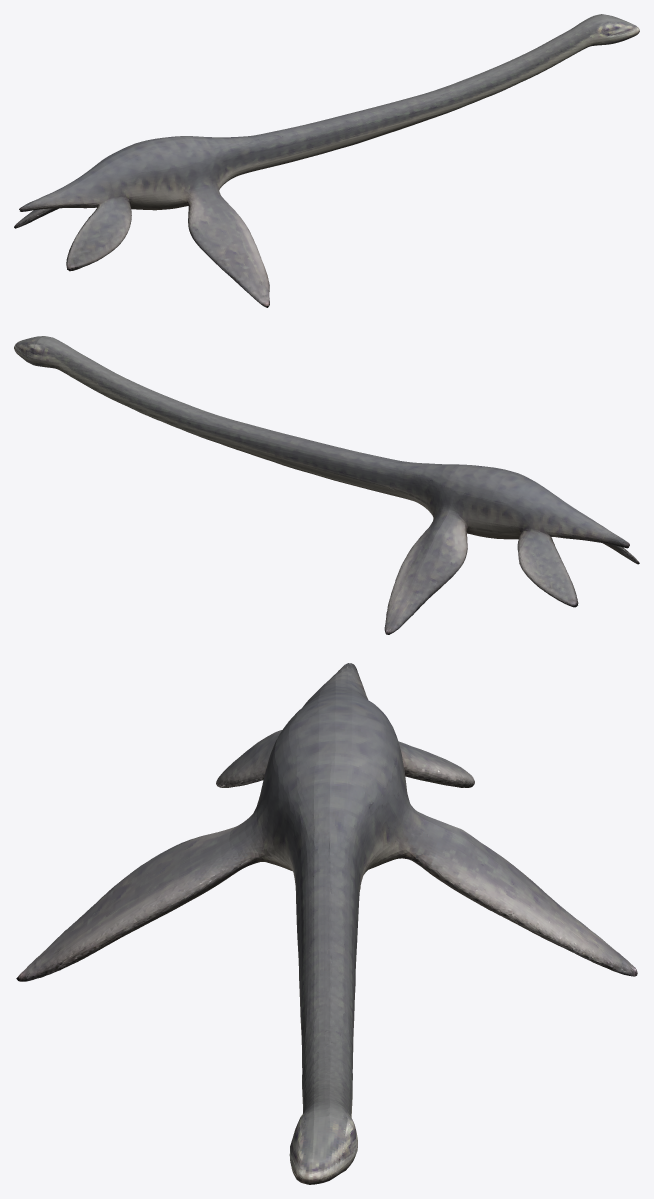
The picture shows the model from 3 angles, top to bottom: view 1: azimuth 30°, elevation 25°; view 2: azimuth 150°, elevation 25°; view 3: azimuth 270°, elevation 25°; orthographic projection. The views are drawn at different scales.
Parts seen in each view (by area): view 1: world; view 2: world; view 3: world.
Boxes of the visible parts, <box> form: world: <box>14,14,639,307</box>; world: <box>14,336,639,634</box>; world: <box>16,663,637,1184</box>.
Size of the model in its own units: 0.9999 by 0.2116 by 0.4413.
Materials: 1 (1 with a texture image).
